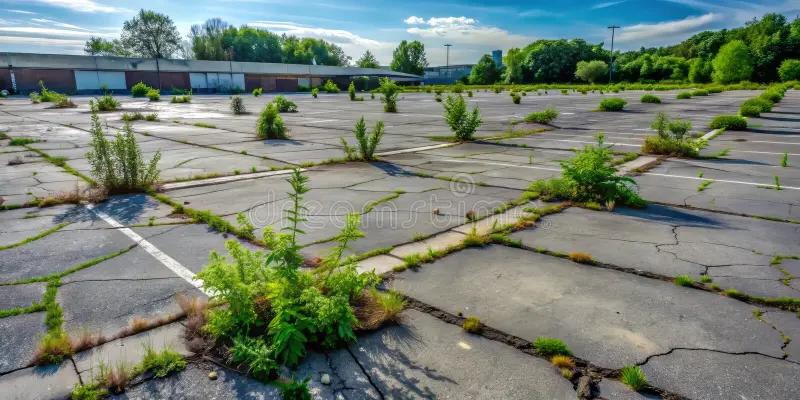overgrown grass: (192, 175, 397, 370), (394, 198, 575, 274), (0, 244, 136, 318), (83, 104, 170, 198), (73, 357, 193, 399), (673, 275, 799, 311), (554, 136, 622, 202), (185, 206, 276, 243), (333, 112, 396, 164), (631, 116, 705, 159), (188, 161, 345, 176), (0, 221, 72, 251), (45, 280, 74, 353), (508, 107, 563, 135), (440, 100, 476, 139), (249, 104, 280, 140), (710, 112, 751, 136), (674, 86, 732, 102), (32, 91, 72, 113), (121, 105, 161, 121), (3, 193, 109, 199), (699, 166, 717, 198), (380, 94, 405, 116), (272, 96, 302, 112), (741, 99, 767, 117), (763, 82, 780, 107), (127, 85, 158, 96), (11, 135, 42, 146), (579, 87, 625, 94), (191, 120, 220, 131), (347, 82, 362, 103), (45, 154, 68, 167), (643, 94, 664, 107), (773, 173, 787, 192), (599, 99, 627, 108), (234, 98, 246, 115), (506, 92, 523, 104), (490, 84, 507, 93), (782, 154, 791, 169)
